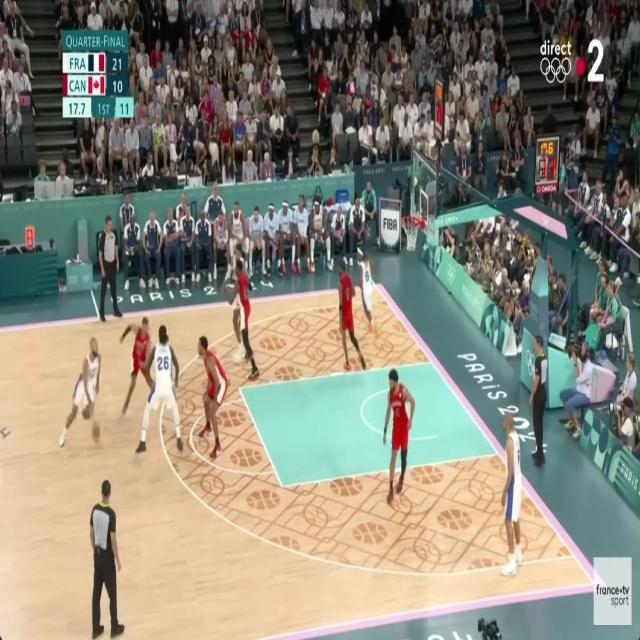ball_handler: (68, 339, 104, 444)
